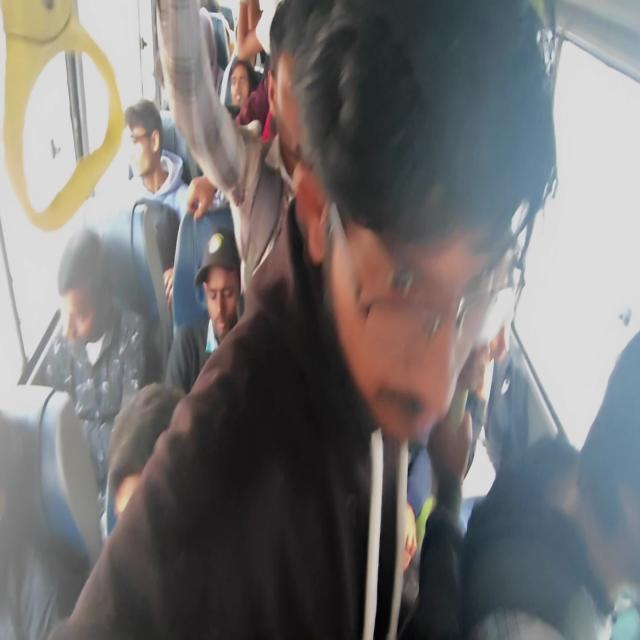person: (330, 196, 516, 448), (105, 382, 186, 532), (272, 1, 332, 184), (0, 409, 46, 639), (577, 461, 640, 608), (172, 204, 236, 340), (56, 228, 118, 348), (124, 97, 165, 180), (171, 120, 199, 184), (229, 56, 258, 109), (104, 468, 123, 542), (151, 64, 169, 115), (220, 58, 237, 110), (212, 187, 226, 209), (199, 0, 219, 15)
